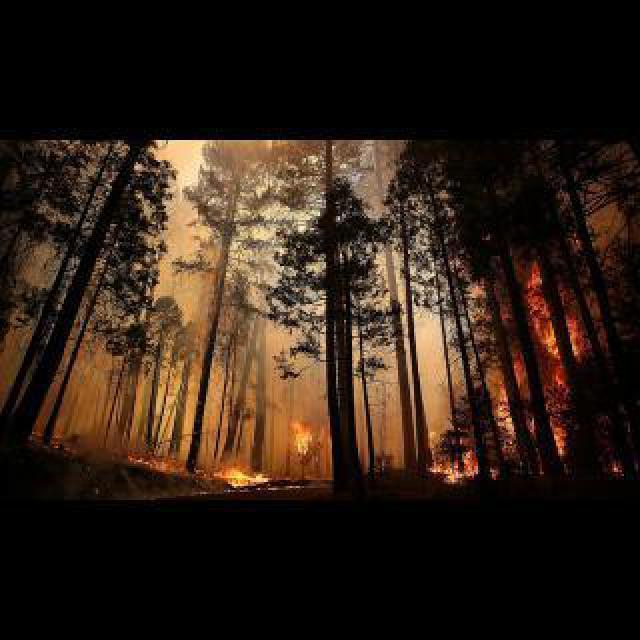Fire: (422, 260, 568, 486), (112, 422, 316, 490)
